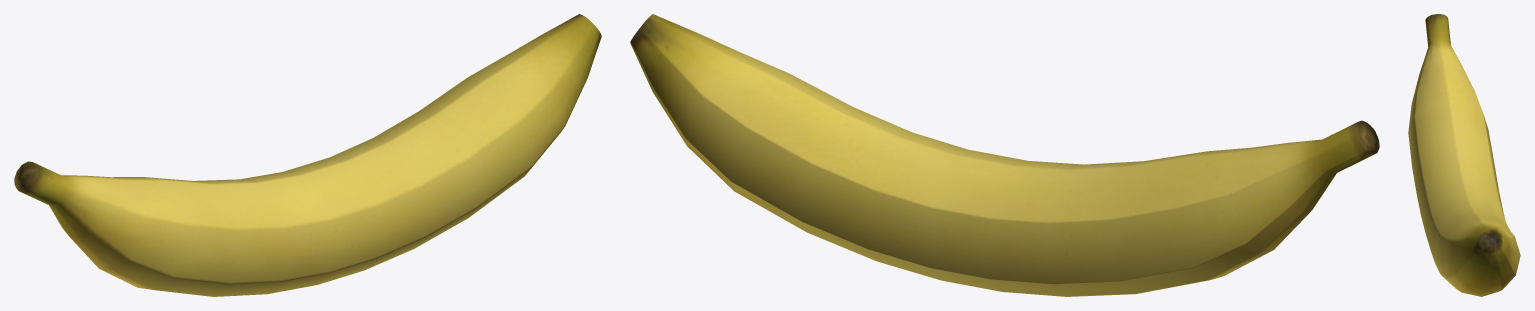
File: Banana.fbx
3 renders of one model, left to right at view 1: azimuth 30°, elevation 25°; view 2: azimuth 150°, elevation 25°; view 3: azimuth 270°, elevation 25°, orthographic. The views are drawn at different scales.
Visible parts, largest first — view 1: Banana; view 2: Banana; view 3: Banana.
Part boxes in pixels (x1,y1,x2,y2): Banana: (14,14,601,296); Banana: (630,14,1379,296); Banana: (1408,14,1520,296).
Bounding box in the file's own units: 2.34 × 0.7297 × 0.5272.
